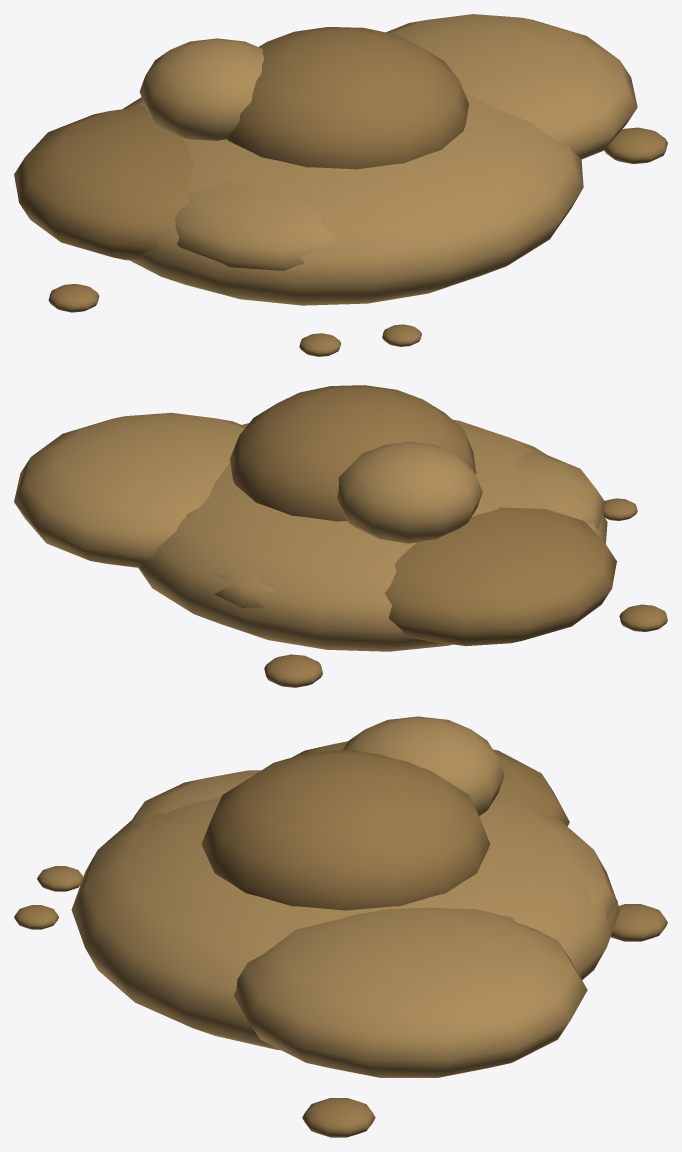
The model's file is kot_brei.glb.
3 views of the same model, one above another, from view 1: azimuth 30°, elevation 25°; view 2: azimuth 150°, elevation 25°; view 3: azimuth 270°, elevation 25° (orthographic). The views are drawn at different scales.
Parts seen in each view (by area): view 1: KotBrei; view 2: KotBrei; view 3: KotBrei.
Boxes of the visible parts, left/top/right/bottom form: KotBrei: left=14, top=14, right=667, bottom=356; KotBrei: left=14, top=385, right=667, bottom=687; KotBrei: left=14, top=716, right=667, bottom=1137.
Bounding box in the file's own units: 0.556 × 0.17 × 0.4529.
